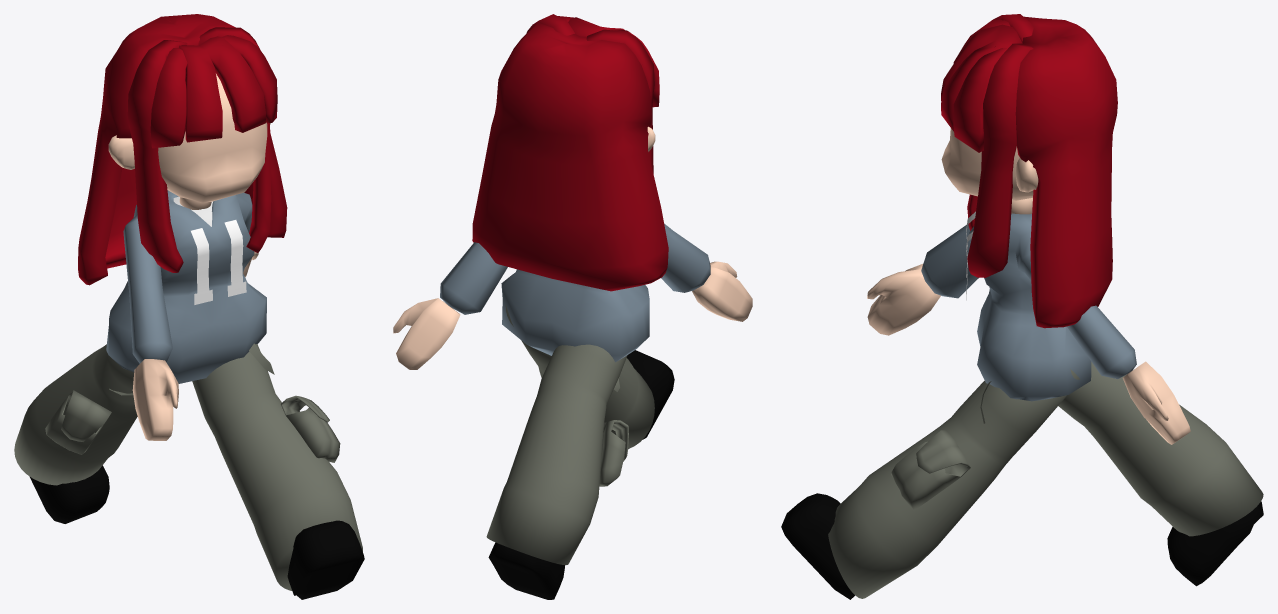
File: umi_walk_2.glb
The picture shows the model from 3 angles, left to right: view 1: azimuth 30°, elevation 25°; view 2: azimuth 150°, elevation 25°; view 3: azimuth 270°, elevation 25°; orthographic projection. The views are drawn at different scales.
Parts seen in each view (by area): view 1: pants, sweater, hair.003, hair.001, feet, head, hair, bolsillo, hair.002, hand, Plane, ear; view 2: hair.003, pants, sweater, hand, feet, hair.001, bolsillo, hair; view 3: pants, hair.003, sweater, hair.001, feet, hand, bolsillo, hair.002, hair, head.
Part boxes in pixels (left/top/right/bottom): pants: left=14, top=344, right=362, bottom=590; sweater: left=106, top=190, right=266, bottom=383; hair.003: left=78, top=14, right=287, bottom=285; hair.001: left=127, top=27, right=271, bottom=272; feet: left=29, top=465, right=364, bottom=599; head: left=158, top=74, right=267, bottom=202; hair: left=179, top=36, right=265, bottom=142; bolsillo: left=45, top=390, right=340, bottom=462; hair.002: left=150, top=35, right=277, bottom=148; hand: left=132, top=251, right=258, bottom=440; Plane: left=191, top=220, right=246, bottom=304; ear: left=108, top=123, right=270, bottom=169; hair.003: left=472, top=23, right=668, bottom=291; pants: left=486, top=305, right=654, bottom=565; sweater: left=440, top=224, right=710, bottom=362; hand: left=393, top=261, right=752, bottom=369; feet: left=488, top=350, right=674, bottom=599; hair.001: left=526, top=14, right=654, bottom=173; bolsillo: left=599, top=420, right=628, bottom=486; hair: left=568, top=17, right=624, bottom=36; pants: left=828, top=362, right=1263, bottom=598; hair.003: left=1015, top=16, right=1117, bottom=328; sweater: left=921, top=213, right=1136, bottom=401; hair.001: left=967, top=14, right=1033, bottom=277; feet: left=781, top=493, right=1263, bottom=599; hand: left=867, top=264, right=1190, bottom=444; bolsillo: left=891, top=430, right=970, bottom=510; hair.002: left=953, top=19, right=1010, bottom=152; hair: left=941, top=24, right=1022, bottom=131; head: left=941, top=128, right=1033, bottom=200.
Size of the model in its own units: 2.24 by 4.73 by 3.67.
